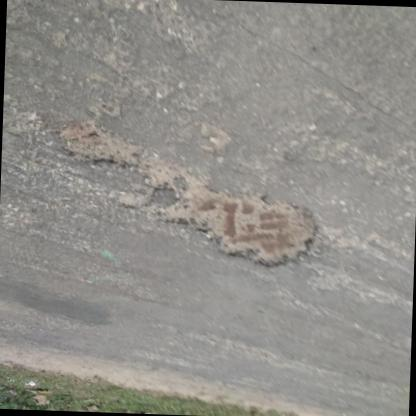pothole: (142, 158, 324, 274), (53, 118, 146, 172)
